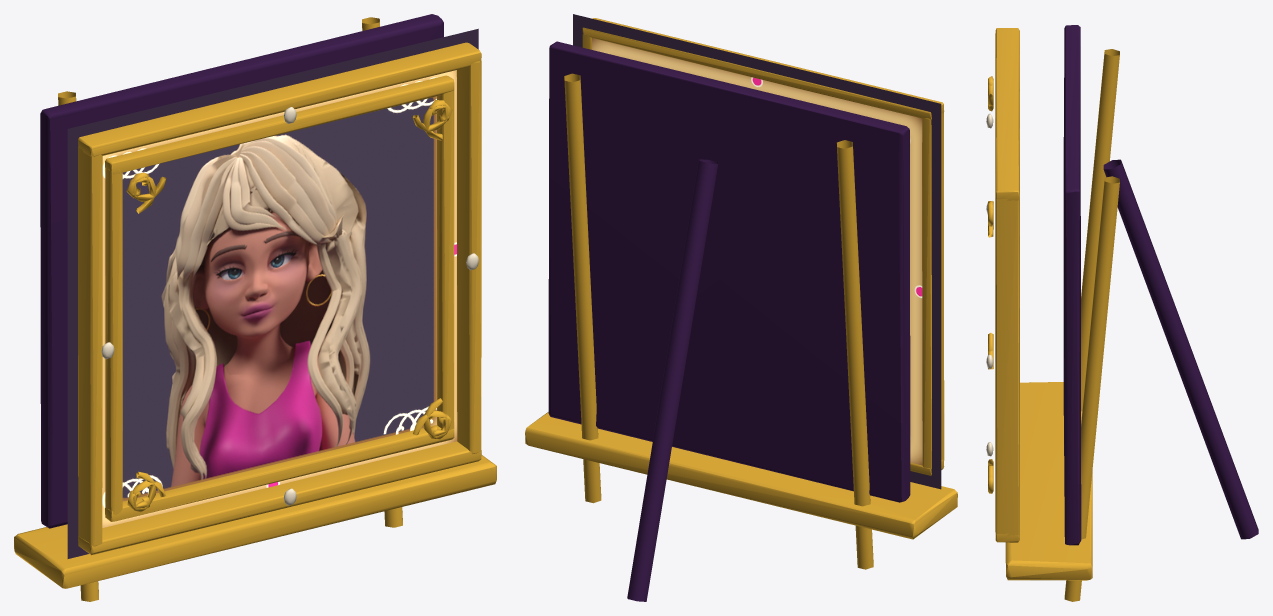
File: profile.frame.gilt.lod1.glb
The picture shows the model from 3 angles, left to right: view 1: azimuth 30°, elevation 25°; view 2: azimuth 150°, elevation 25°; view 3: azimuth 270°, elevation 25°; orthographic projection. The views are drawn at different scales.
Parts seen in each view (by area): view 1: artwork, print_support, shelf_lip, cast_outer_moulding_rail.001, cast_outer_moulding_stile, cast_outer_moulding_rail, cast_outer_moulding_stile.001, inner_bead_rail.001, inner_bead_stile, inner_bead_rail, inner_bead_stile.001; view 2: print_support, artwork, shelf_lip, back_leg, easel_leg, easel_leg.001, cast_outer_moulding_stile, cast_outer_moulding_rail.001; view 3: shelf_lip, print_support, cast_outer_moulding_stile.001, back_leg, easel_leg.001, easel_leg, cast_outer_moulding_rail.001.
Part boxes in pixels (x1=…): artwork: x1=67, y1=28, x2=478, y2=558; print_support: x1=40, y1=14, x2=443, y2=528; shelf_lip: x1=14, y1=454, x2=496, y2=588; cast_outer_moulding_rail.001: x1=78, y1=42, x2=481, y2=156; cast_outer_moulding_stile: x1=78, y1=146, x2=102, y2=546; cast_outer_moulding_rail: x1=78, y1=441, x2=481, y2=555; cast_outer_moulding_stile.001: x1=456, y1=61, x2=481, y2=453; inner_bead_rail.001: x1=105, y1=75, x2=454, y2=174; inner_bead_stile: x1=105, y1=169, x2=122, y2=514; inner_bead_rail: x1=105, y1=425, x2=454, y2=521; inner_bead_stile.001: x1=437, y1=90, x2=454, y2=430; print_support: x1=548, y1=41, x2=910, y2=502; artwork: x1=573, y1=14, x2=941, y2=489; shelf_lip: x1=525, y1=412, x2=957, y2=539; back_leg: x1=627, y1=159, x2=718, y2=601; easel_leg: x1=837, y1=140, x2=873, y2=569; easel_leg.001: x1=564, y1=73, x2=601, y2=503; cast_outer_moulding_stile: x1=922, y1=112, x2=944, y2=469; cast_outer_moulding_rail.001: x1=582, y1=18, x2=944, y2=120; shelf_lip: x1=1005, y1=382, x2=1092, y2=580; print_support: x1=1063, y1=25, x2=1081, y2=545; cast_outer_moulding_stile.001: x1=995, y1=197, x2=1019, y2=535; back_leg: x1=1103, y1=159, x2=1258, y2=539; easel_leg.001: x1=1064, y1=176, x2=1119, y2=601; easel_leg: x1=1081, y1=49, x2=1119, y2=411; cast_outer_moulding_rail.001: x1=995, y1=28, x2=1019, y2=200.
Bounding box in the file's own units: 0.6764 × 0.75 × 0.4235.
Materials: 4 (1 with a texture image).
